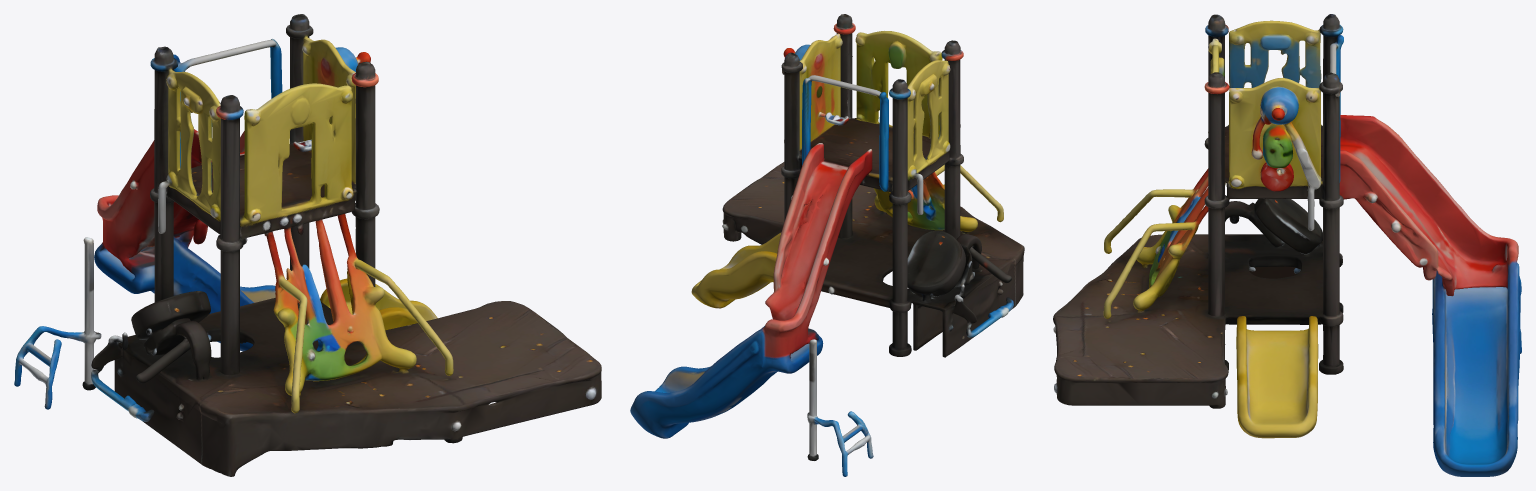
Rendered from plaza-playground-slide.glb.
The picture shows the model from 3 angles, left to right: view 1: azimuth 30°, elevation 25°; view 2: azimuth 150°, elevation 25°; view 3: azimuth 270°, elevation 25°; orthographic projection. The views are drawn at different scales.
Parts seen in each view (by area): view 1: tripo_node_6a421f18-0f79-49fc-a702-44b4be06c854; view 2: tripo_node_6a421f18-0f79-49fc-a702-44b4be06c854; view 3: tripo_node_6a421f18-0f79-49fc-a702-44b4be06c854.
Part boxes in pixels (left/top/right/bottom): tripo_node_6a421f18-0f79-49fc-a702-44b4be06c854: left=14, top=14, right=601, bottom=476; tripo_node_6a421f18-0f79-49fc-a702-44b4be06c854: left=630, top=14, right=1024, bottom=476; tripo_node_6a421f18-0f79-49fc-a702-44b4be06c854: left=1053, top=14, right=1521, bottom=476.
Size of the model in its own units: 2.3 by 2.5 by 2.86.
1 material, 1 textured.
